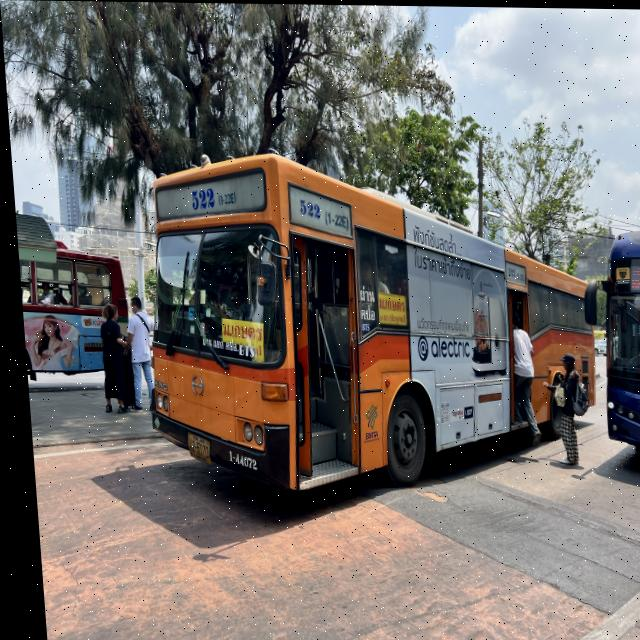BMTA-bus: (128, 152, 598, 497)
Bus-Line-Number: (292, 193, 348, 237), (183, 186, 236, 211)
Destination-Sign-Extra-Bus-Expressway: (215, 319, 259, 363)
Destination-Sign-Normal: (624, 260, 640, 289)
TSB-Bus: (588, 227, 640, 474)
